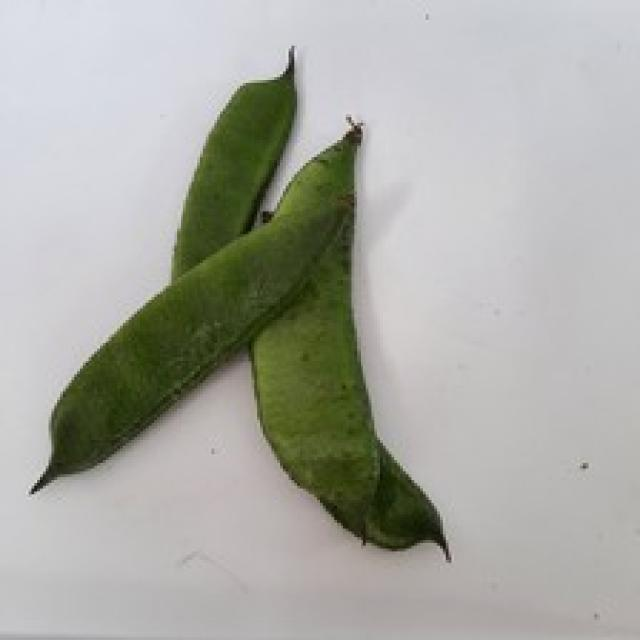Bean: (26, 112, 363, 494), (246, 114, 448, 560), (169, 43, 297, 283)
